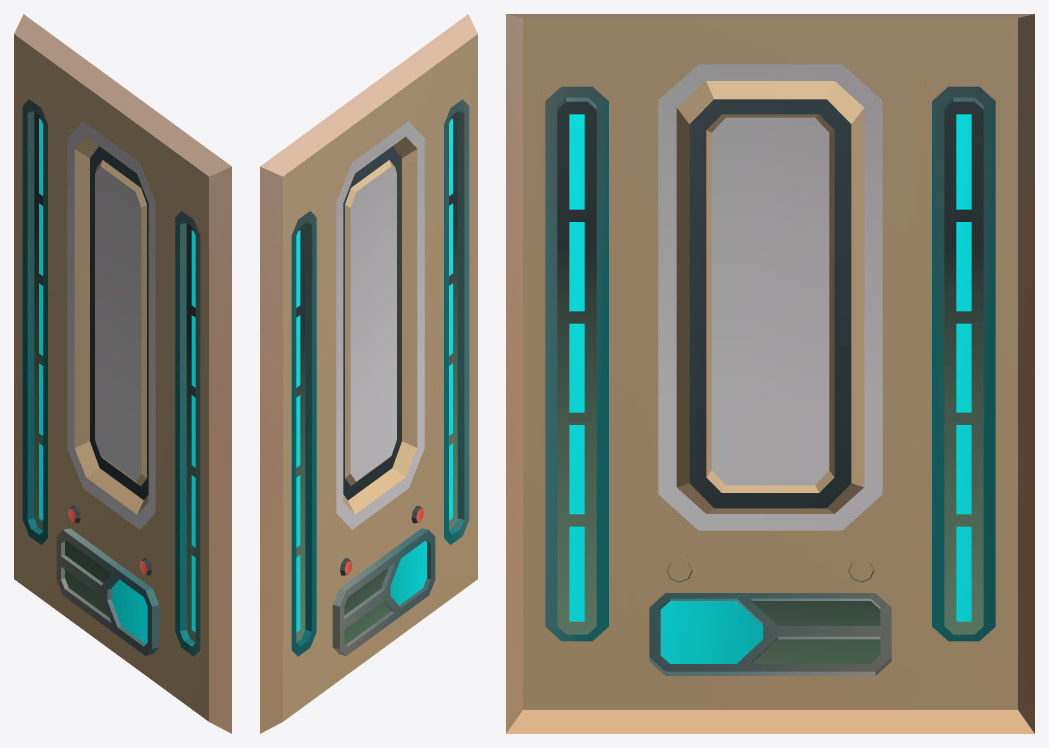
File: C_Wall_2.fbx
The picture shows the model from 3 angles, left to right: view 1: azimuth 30°, elevation 25°; view 2: azimuth 150°, elevation 25°; view 3: azimuth 270°, elevation 25°; orthographic projection. The views are drawn at different scales.
Visible parts, largest first — view 1: C_Wall_2; view 2: C_Wall_2; view 3: C_Wall_2.
Boxes of the visible parts, <box> form: C_Wall_2: <box>14,14,231,733</box>; C_Wall_2: <box>260,14,477,733</box>; C_Wall_2: <box>506,14,1034,733</box>.
Size of the model in its own units: 8.6 by 198 by 132.
